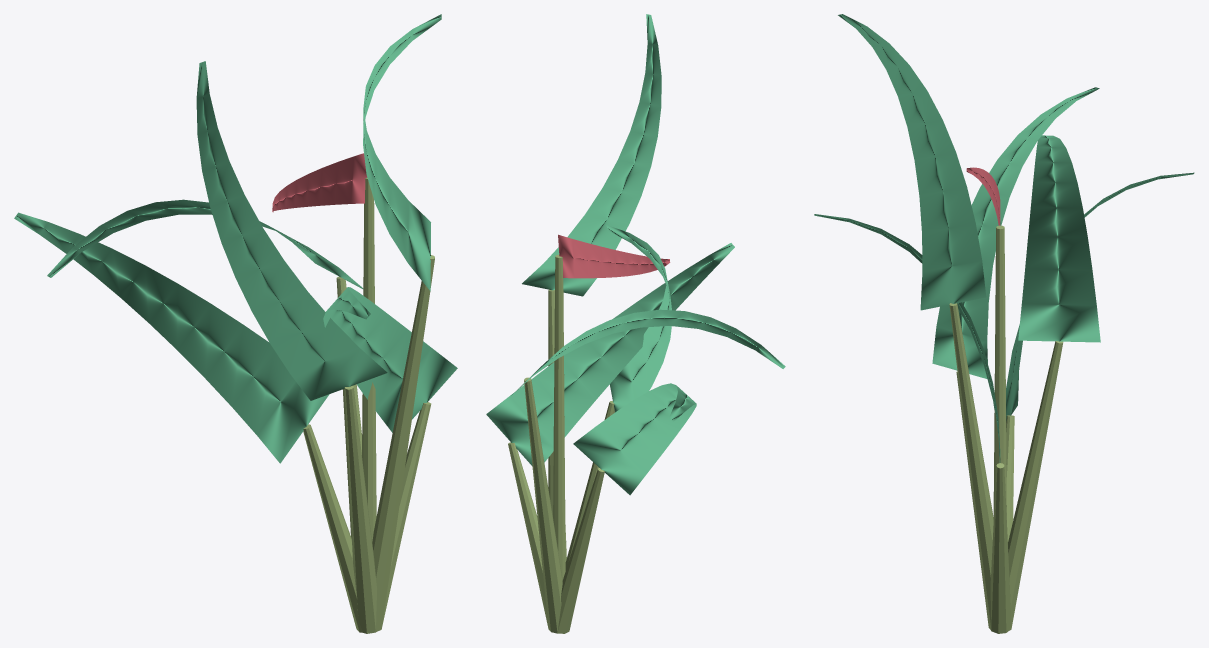
Rendered from bird_of_paradise_tropical_island_and_palm_trees_6824.glb.
3 renders of one model, left to right at view 1: azimuth 30°, elevation 25°; view 2: azimuth 150°, elevation 25°; view 3: azimuth 270°, elevation 25°, orthographic. The views are drawn at different scales.
Visible parts, largest first — view 1: bird-of-paradise; view 2: bird-of-paradise; view 3: bird-of-paradise.
Part boxes in pixels (x1,y1,x2,y2): bird-of-paradise: [14, 14, 457, 633]; bird-of-paradise: [486, 14, 785, 633]; bird-of-paradise: [814, 14, 1194, 633].
Bounding box in the file's own units: 1.17 × 1.98 × 1.12.
